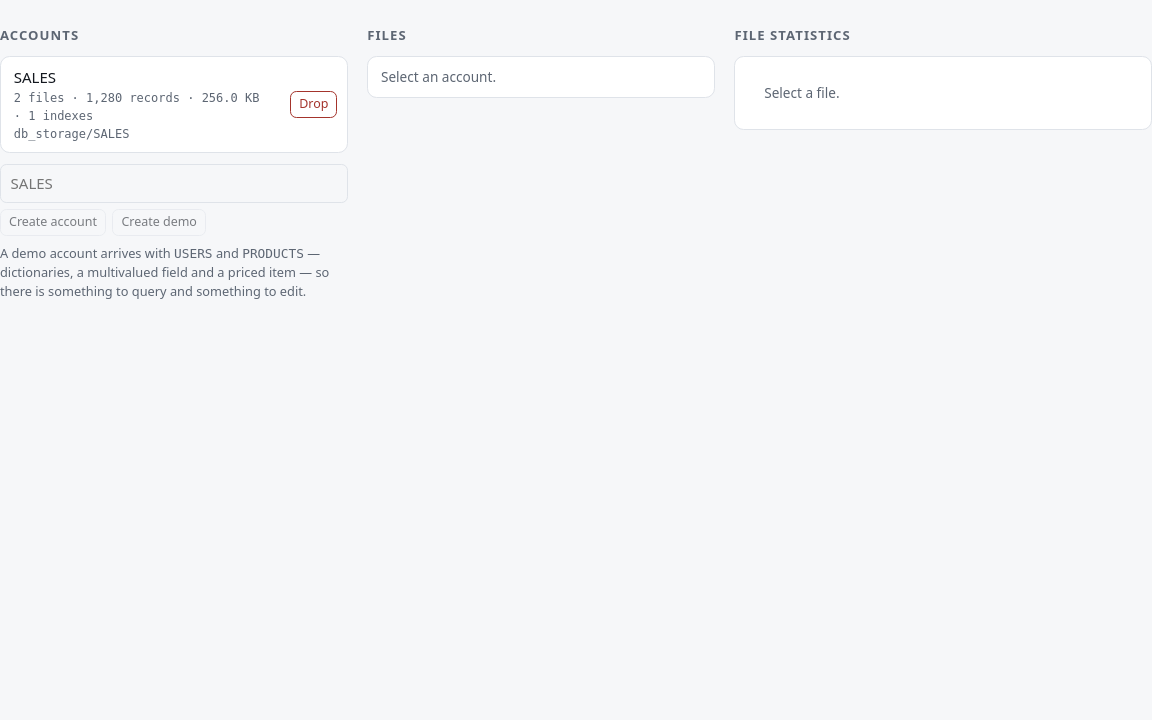
the accounts view › offers minting on an ordinary file and reports nothing about it
Step 1. Click the button with class "select" → (142, 105), box 1,58 -> 284,152
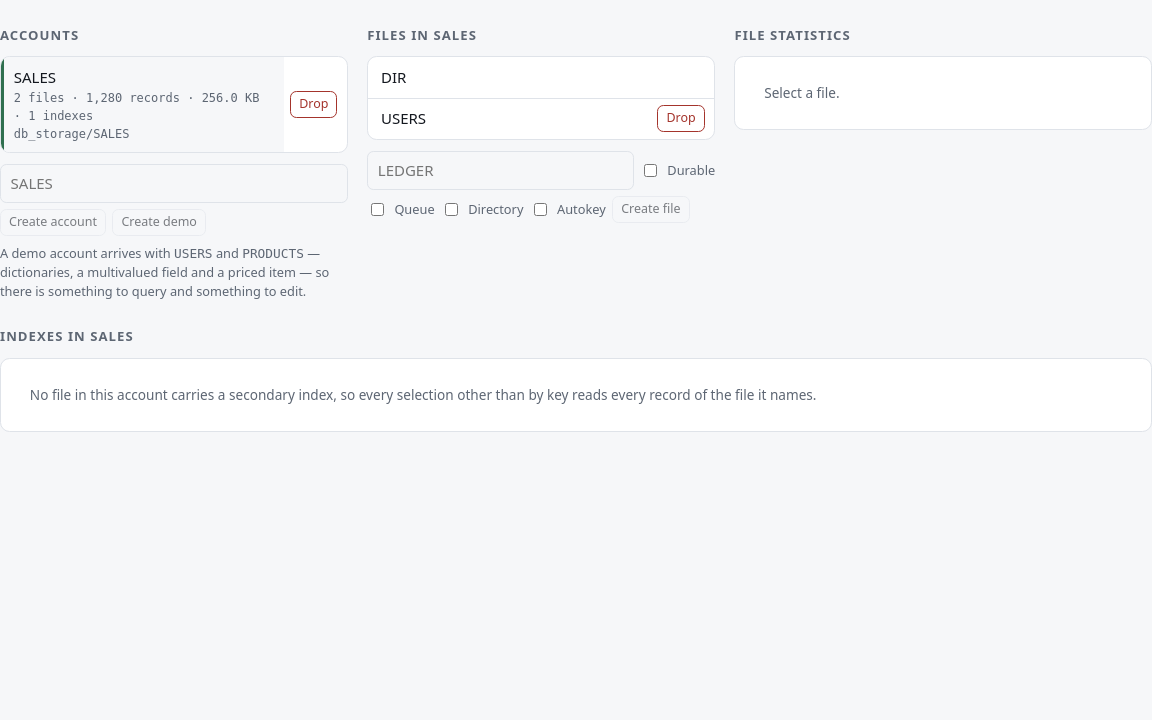
Step 2. Click the button with class "select" showing "USERS" → (404, 118), box 368,99 -> 651,139
(page scrolled)
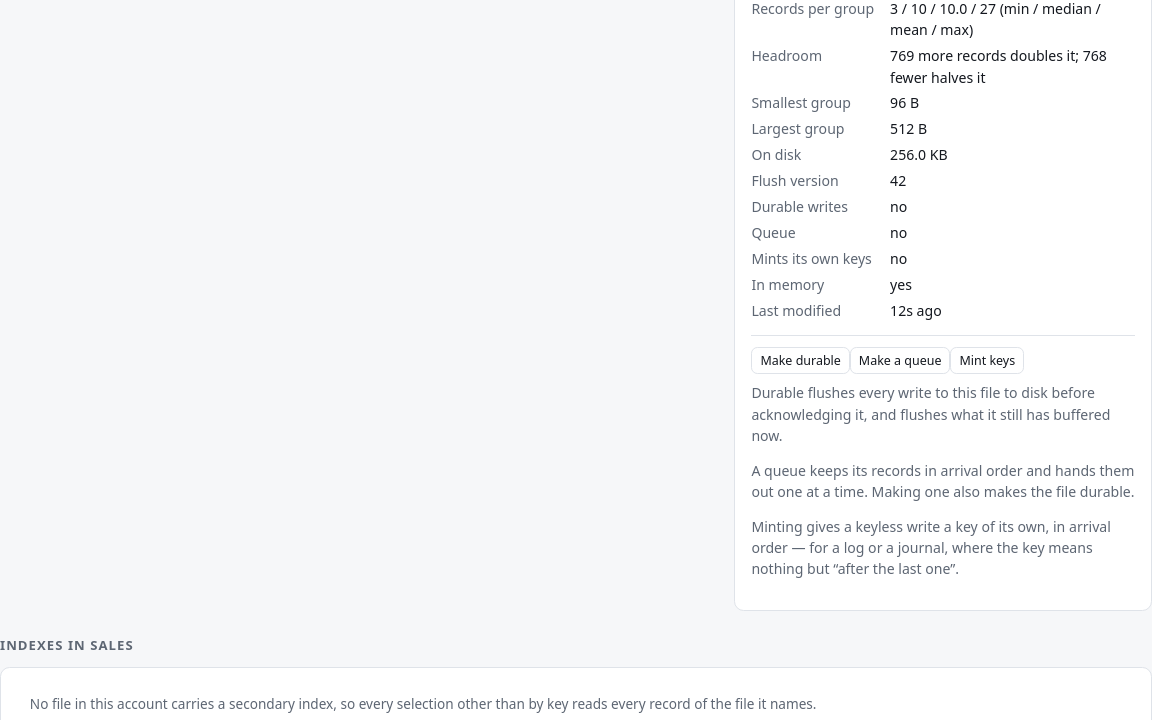
Now the text "Mints its own keys" is shown, box 751,248 -> 874,269
Now the button "Mint keys" is shown, box 950,347 -> 1024,374
